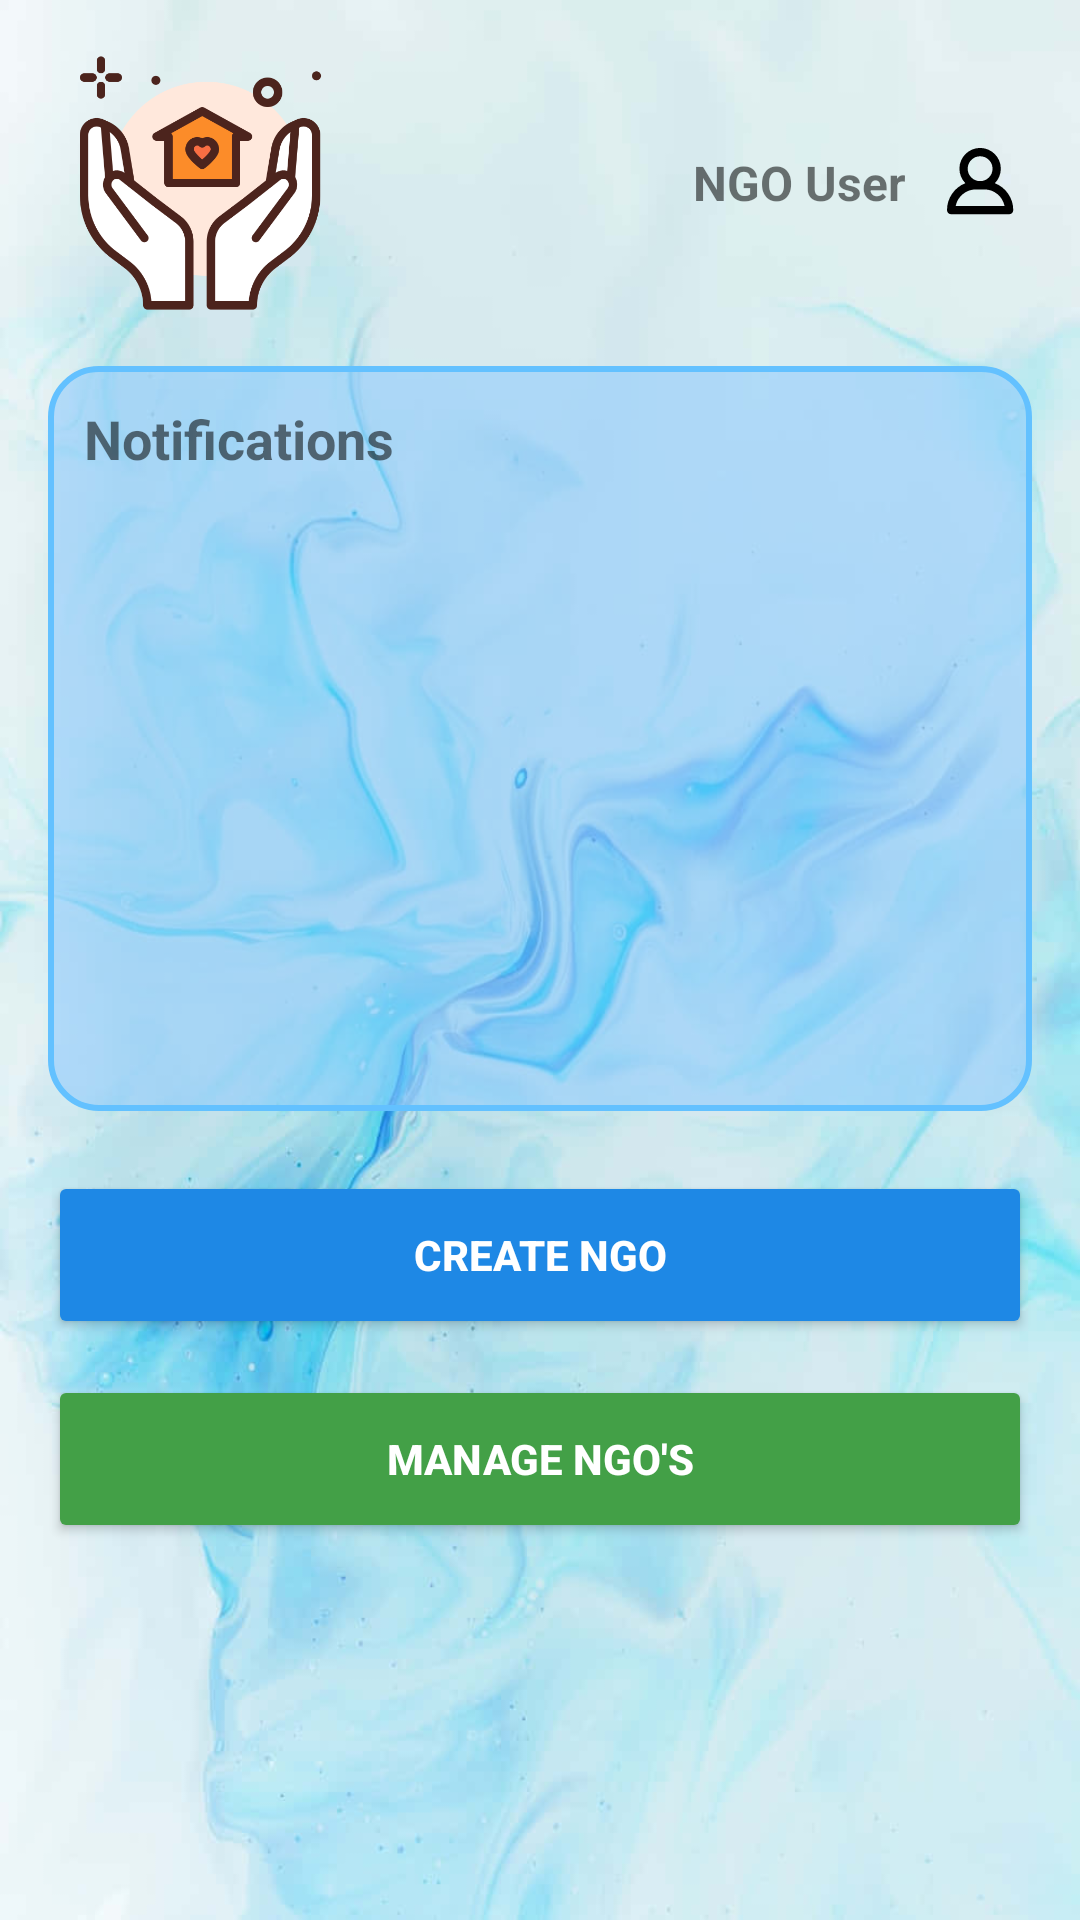

Screen size 1080 × 1920. Icon name, then its box in pixels as (x1, y1, x2, y2):
Profile: (947, 148, 1014, 215)
